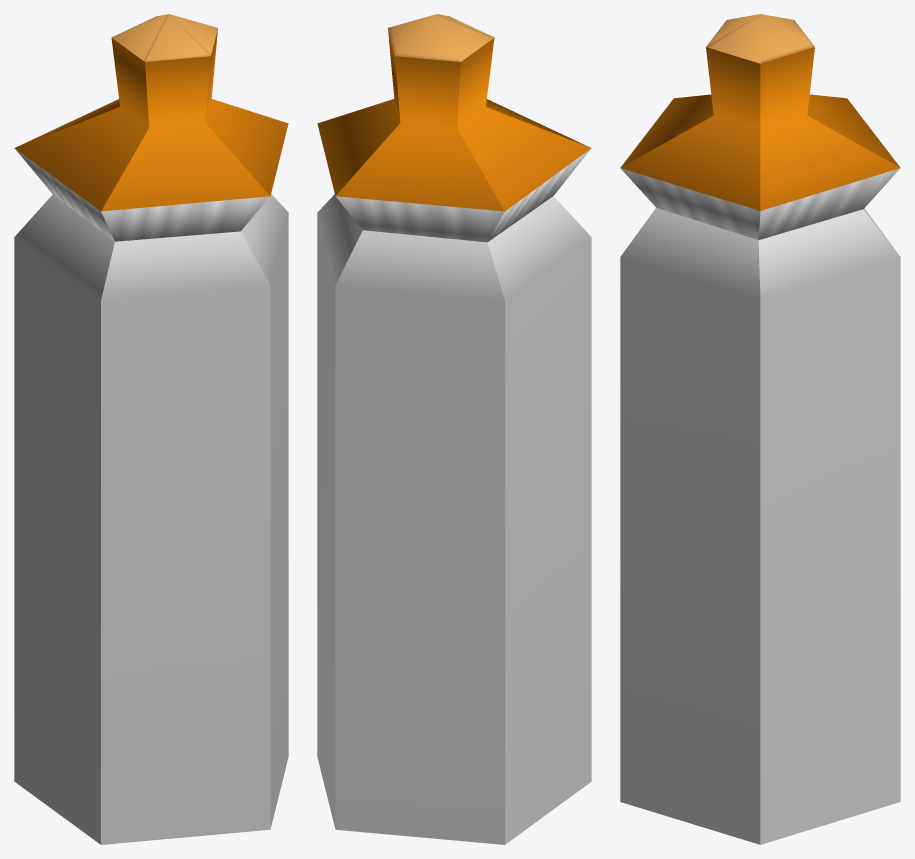
Rendered from BabyBottle.fbx.
3 renders of one model, left to right at view 1: azimuth 30°, elevation 25°; view 2: azimuth 150°, elevation 25°; view 3: azimuth 270°, elevation 25°, orthographic.
Visible parts, largest first — view 1: Maya_File_Assets:TexturedAssetsCurrent:Assets:baby_bottle_01; view 2: Maya_File_Assets:TexturedAssetsCurrent:Assets:baby_bottle_01; view 3: Maya_File_Assets:TexturedAssetsCurrent:Assets:baby_bottle_01.
Boxes of the visible parts, box(x1,y1,x2,y2) form: Maya_File_Assets:TexturedAssetsCurrent:Assets:baby_bottle_01: box(14, 14, 288, 844); Maya_File_Assets:TexturedAssetsCurrent:Assets:baby_bottle_01: box(317, 14, 591, 844); Maya_File_Assets:TexturedAssetsCurrent:Assets:baby_bottle_01: box(620, 14, 900, 844).
Bounding box in the file's own units: 0.0714 × 0.2282 × 0.0751.
